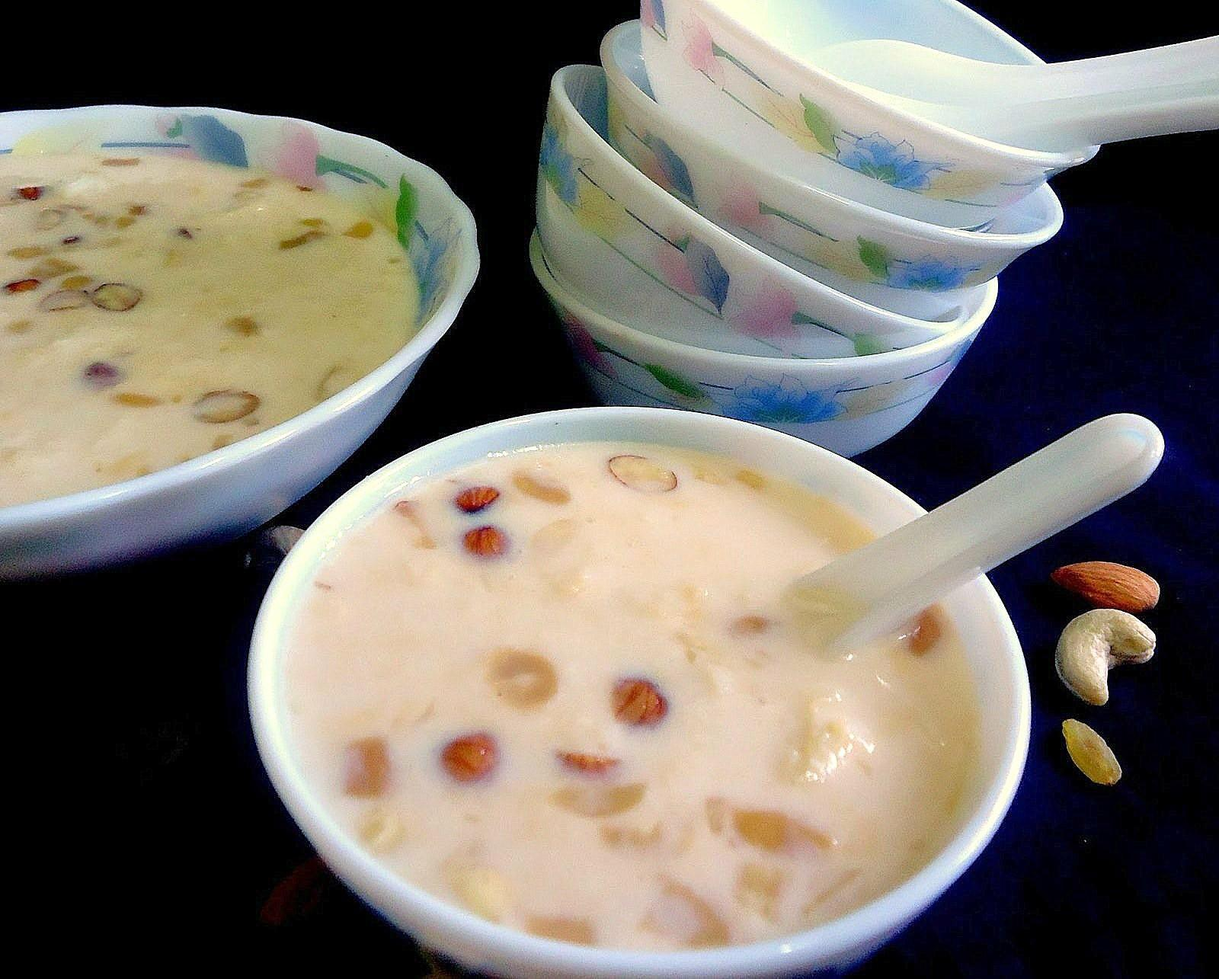Kheer: (285, 436, 990, 950), (0, 142, 421, 509)
